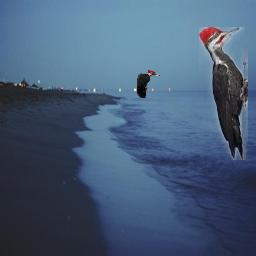Woodpecker: (199, 27, 248, 160), (137, 70, 160, 98)
